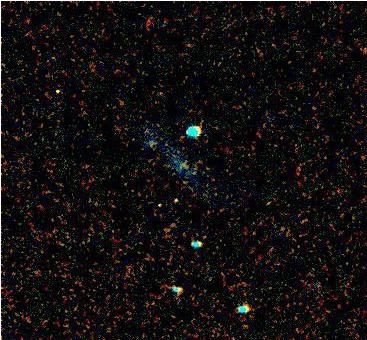star: (144, 188, 174, 218)
